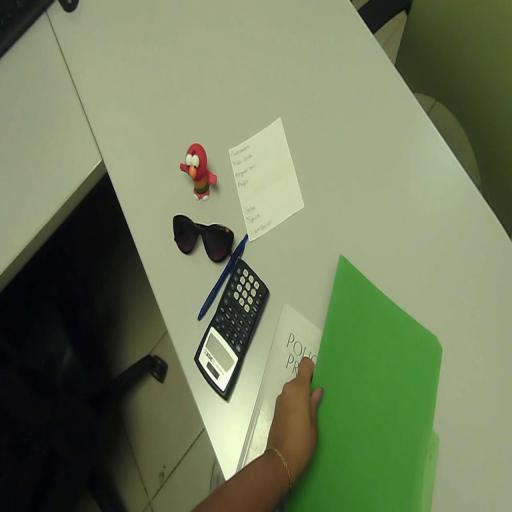pen: (198, 234, 248, 320)
